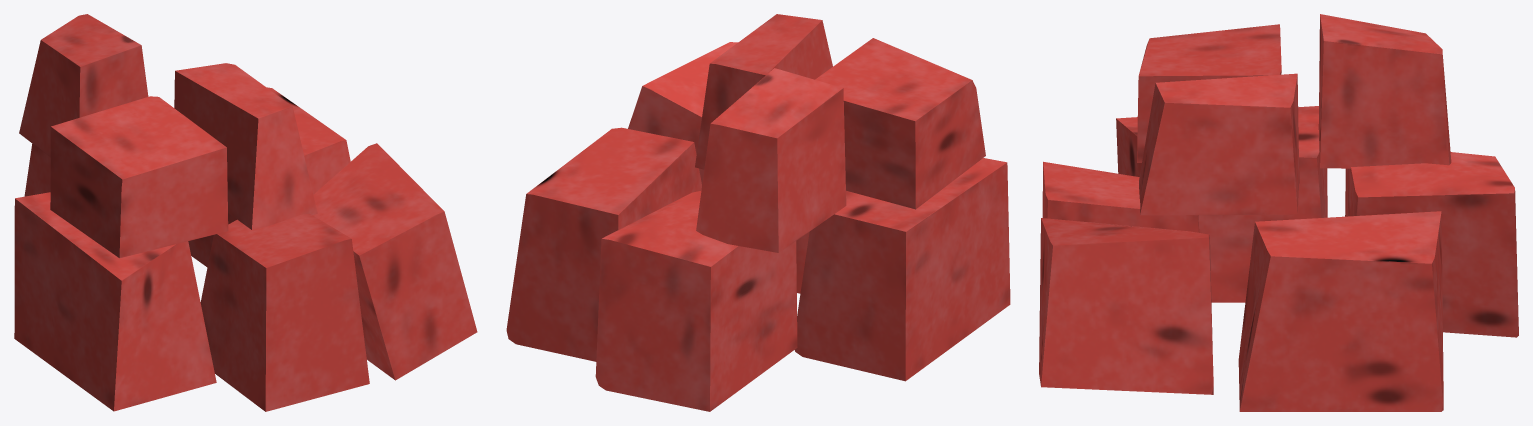
Rendered from watermelon.glb.
3 views of the same model, side by side, from view 1: azimuth 30°, elevation 25°; view 2: azimuth 150°, elevation 25°; view 3: azimuth 270°, elevation 25° (orthographic). The views are drawn at different scales.
Parts seen in each view (by area): view 1: polySurface69; view 2: polySurface69; view 3: polySurface69.
Boxes of the visible parts, x1=… form: polySurface69: x1=14, y1=14, x2=477, y2=411; polySurface69: x1=506, y1=14, x2=1010, y2=411; polySurface69: x1=1039, y1=14, x2=1518, y2=411.
Bounding box in the file's own units: 0.00944 × 0.00695 × 0.011.
Materials: 1 (1 with a texture image).
